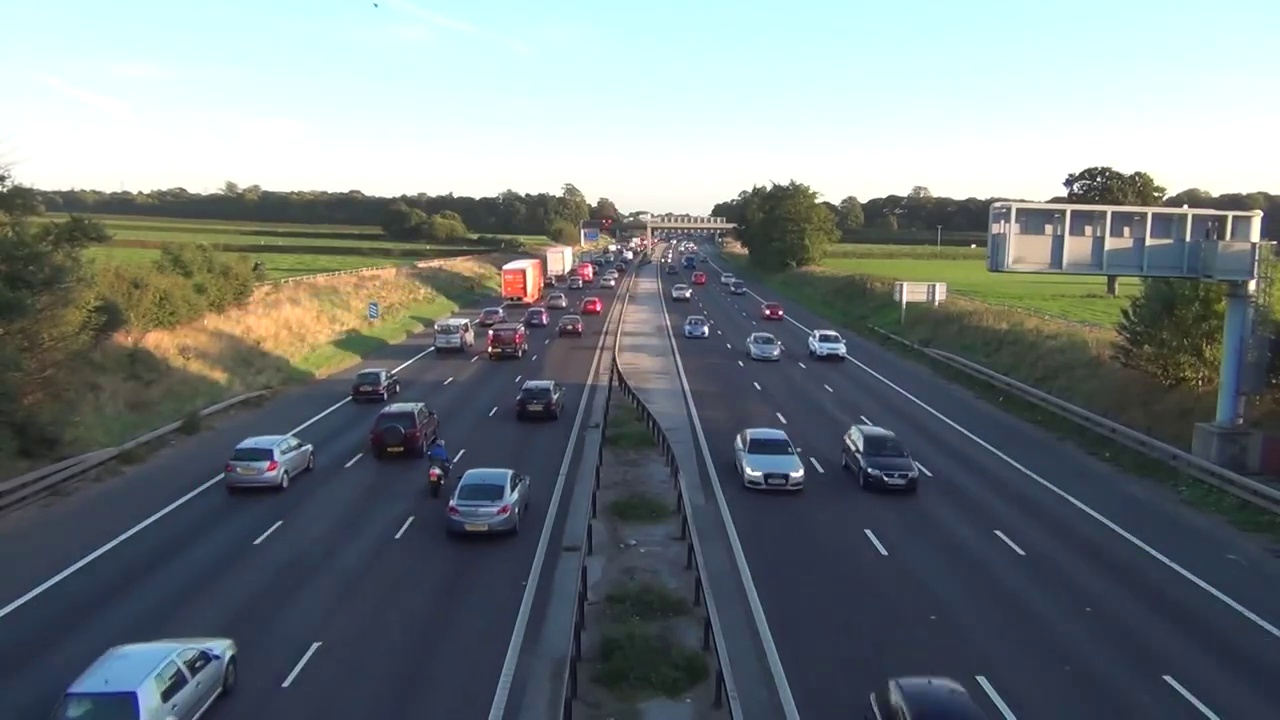bus: (54, 616, 235, 720), (441, 460, 533, 549), (840, 424, 923, 503), (724, 423, 807, 500), (229, 432, 318, 497), (864, 679, 985, 720), (379, 400, 430, 458), (511, 376, 565, 419), (353, 364, 398, 409), (807, 328, 847, 361), (746, 331, 781, 360), (683, 315, 712, 341), (556, 313, 586, 338), (478, 305, 509, 328), (521, 307, 549, 328), (545, 292, 570, 311), (761, 301, 784, 321), (583, 296, 603, 316), (671, 284, 691, 301), (730, 280, 748, 295), (720, 273, 737, 286), (541, 274, 556, 288), (690, 272, 706, 285), (599, 277, 614, 290), (570, 275, 582, 290), (664, 263, 677, 275), (604, 268, 619, 278), (613, 263, 626, 272), (593, 265, 598, 274)
car: (500, 261, 544, 302), (547, 248, 573, 280)
jeep: (421, 435, 454, 493)
lorry: (488, 320, 529, 359), (431, 318, 476, 353), (573, 257, 578, 271)
minibus: (576, 262, 595, 283), (681, 255, 697, 270)
